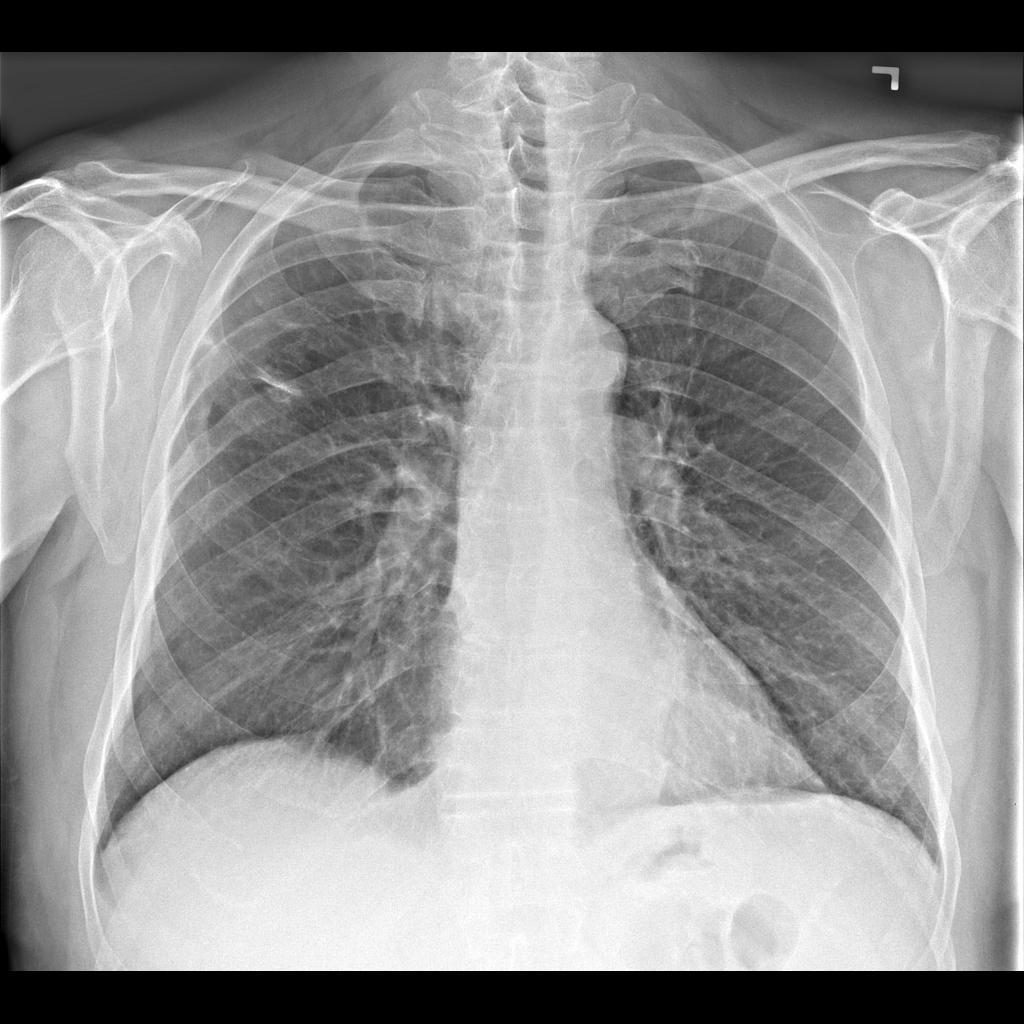Nodule: (253, 377, 302, 411)
